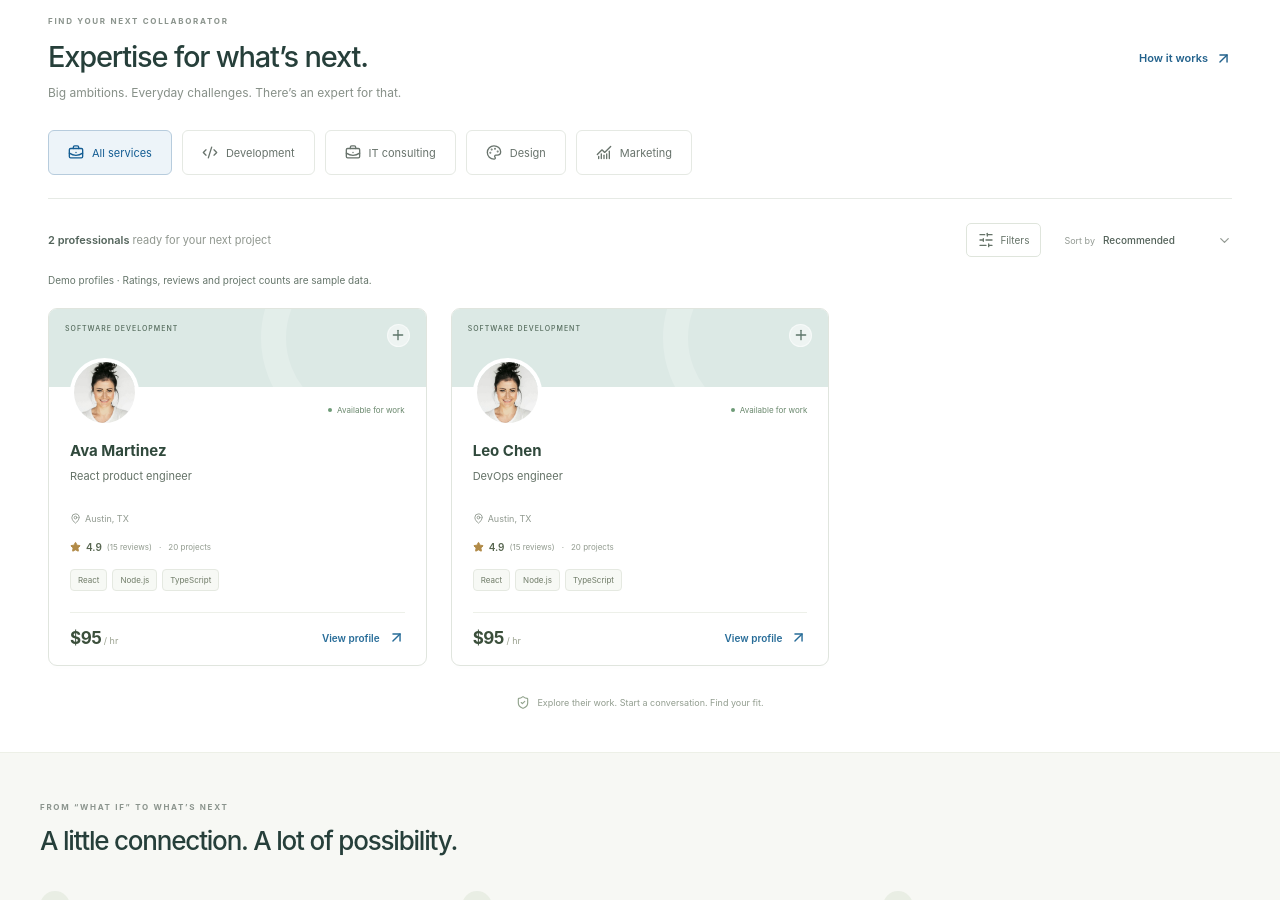
Test: closing a pending contact sign-in prevents delayed auth and canceled inquiry side effects
The width and height of the screenshot is (1280, 900).
(page scrolled)
Click the button "Ava Martinez": (118, 450) top-left (70, 440), bottom-right (166, 460)
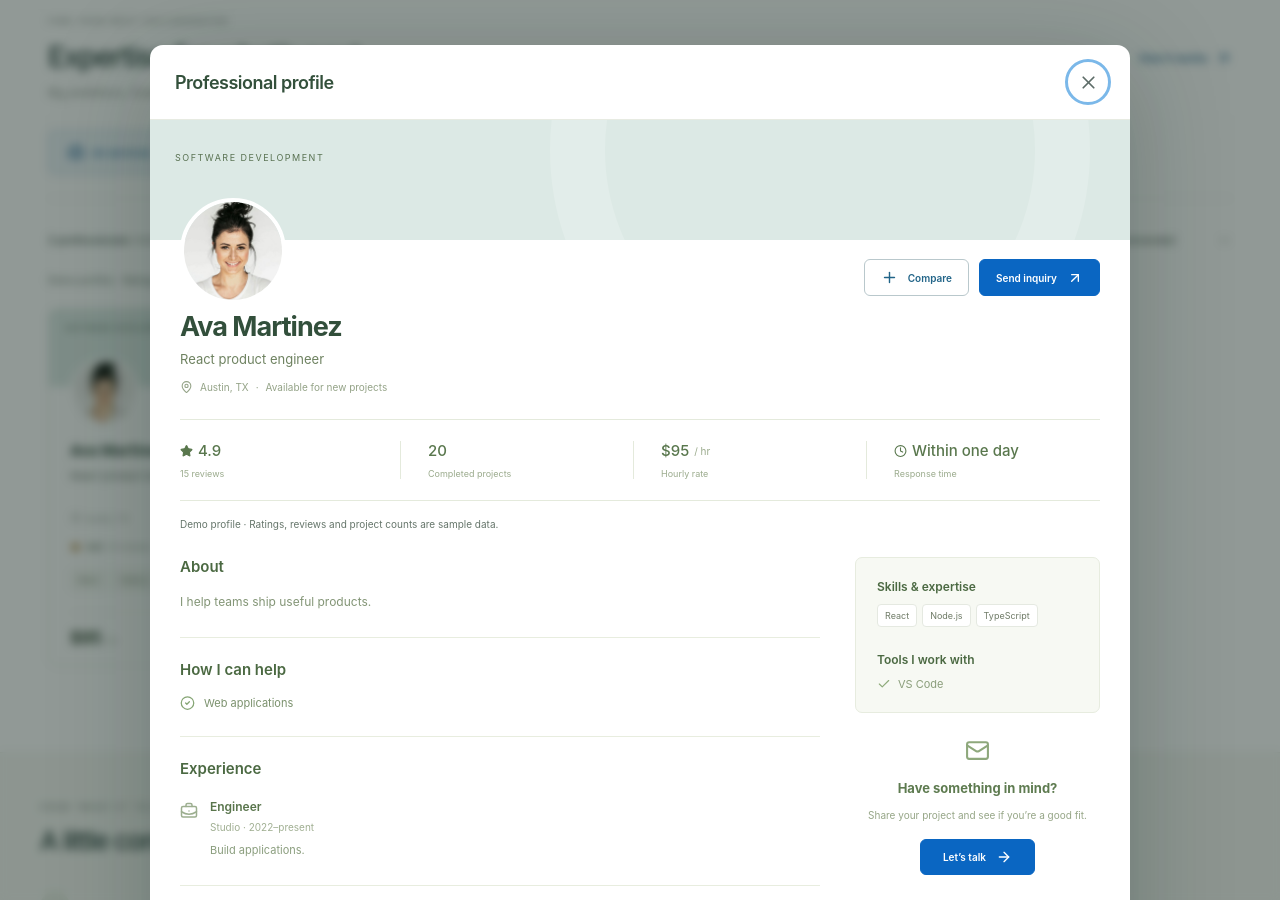
Click the button "Send inquiry": (1040, 278) top-left (979, 259), bottom-right (1100, 296)
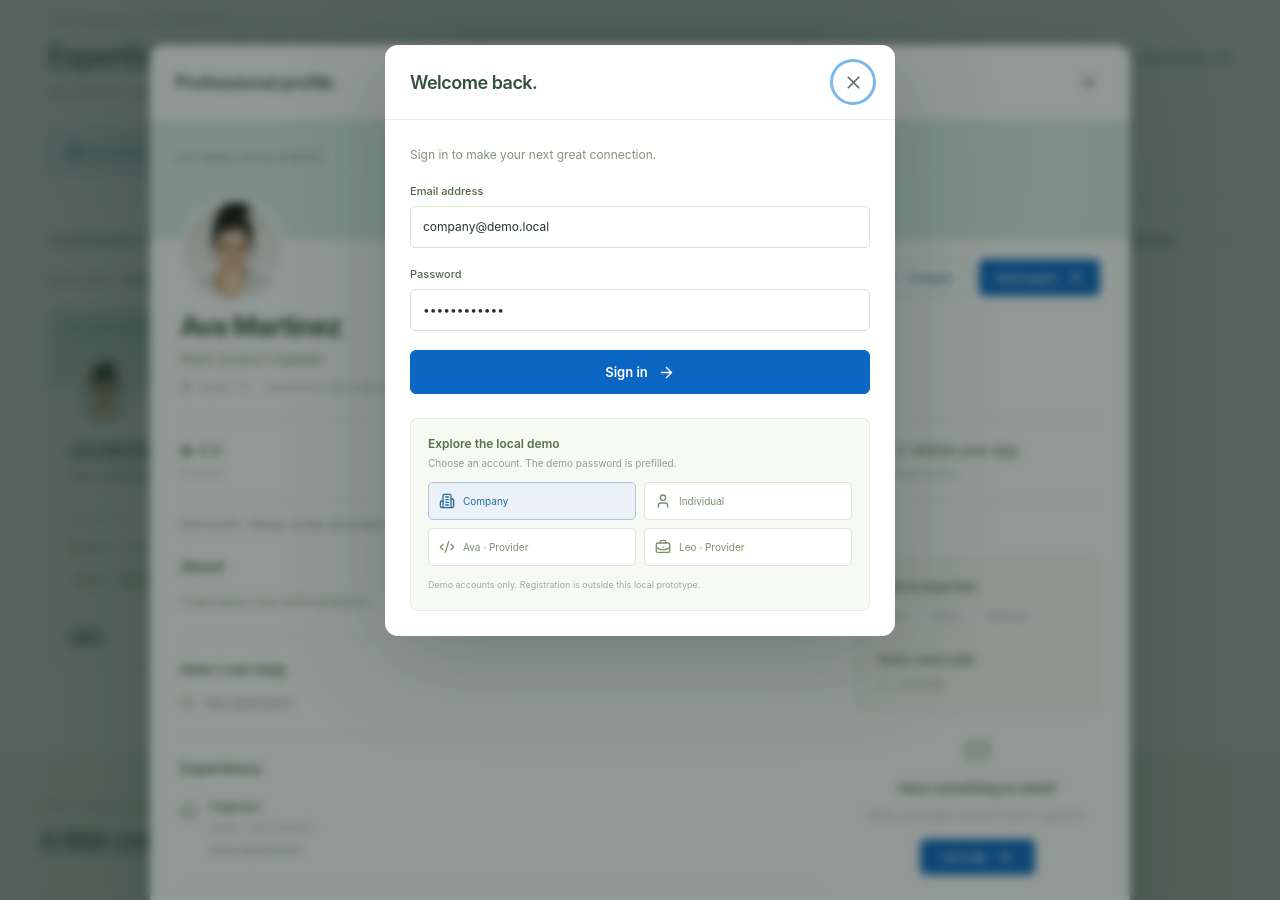
Click the button "Sign in": (640, 372) top-left (410, 350), bottom-right (870, 394)
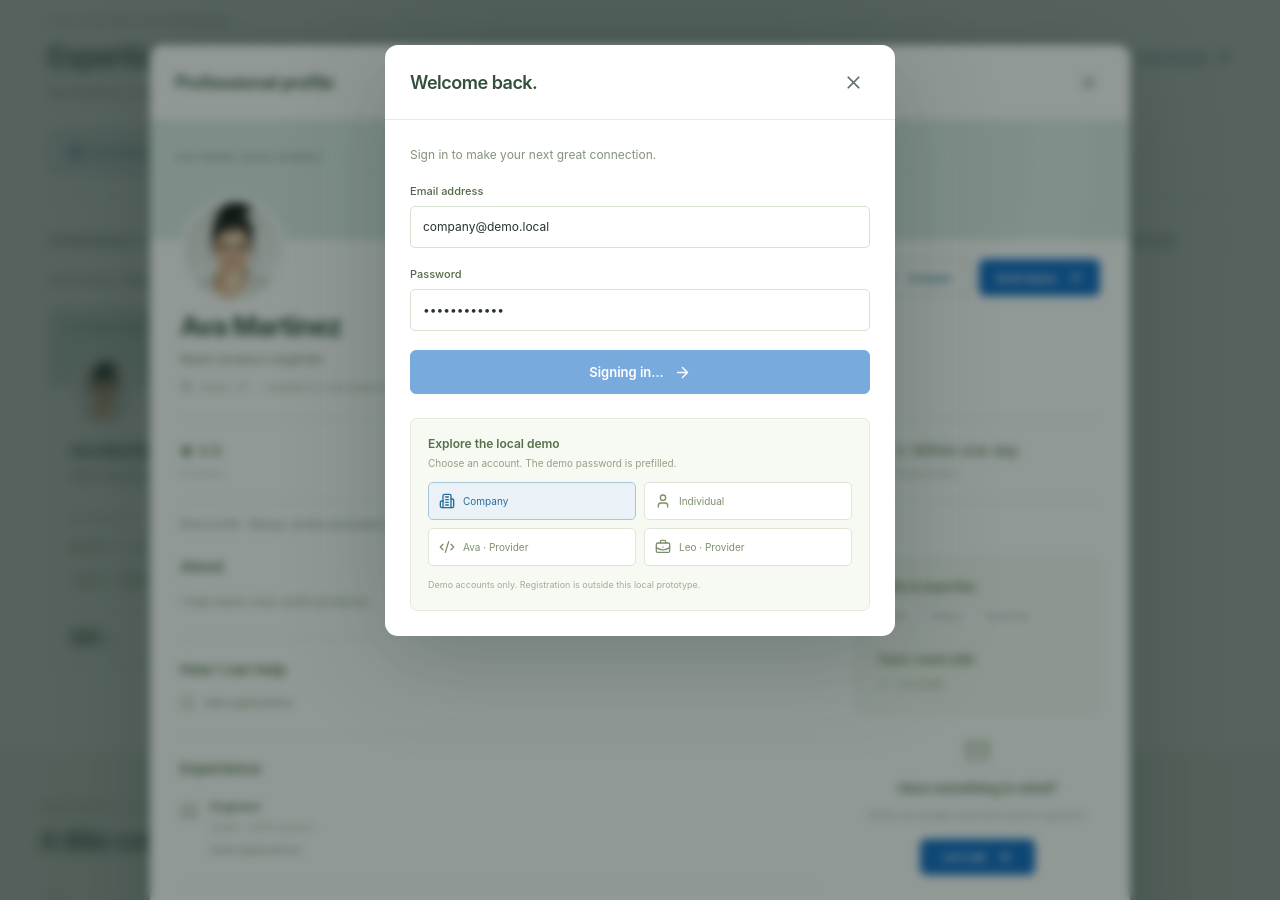
Click the button named "Close dialog": (853, 82) top-left (836, 65), bottom-right (870, 99)
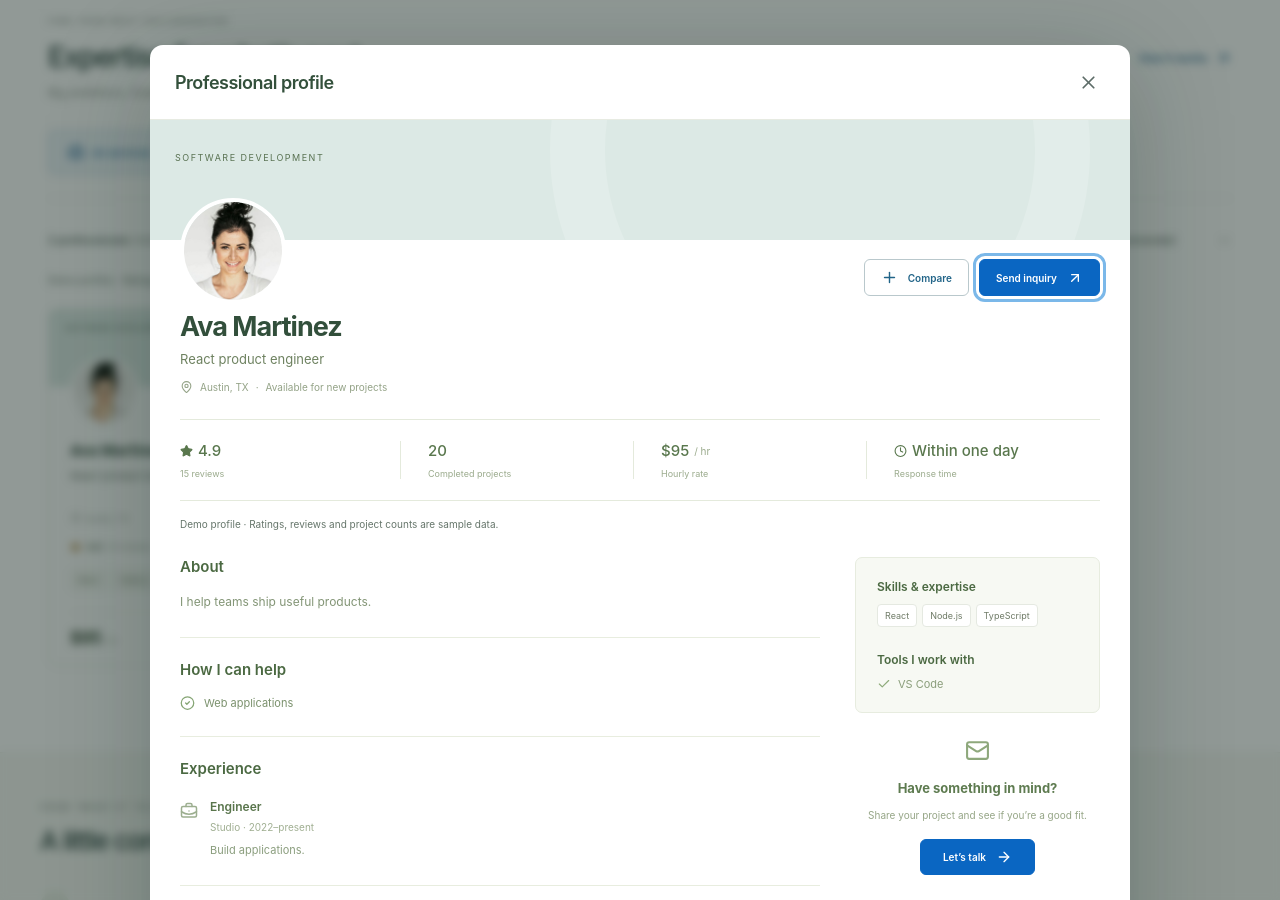
Expected: the heading "Welcome back." is gone
